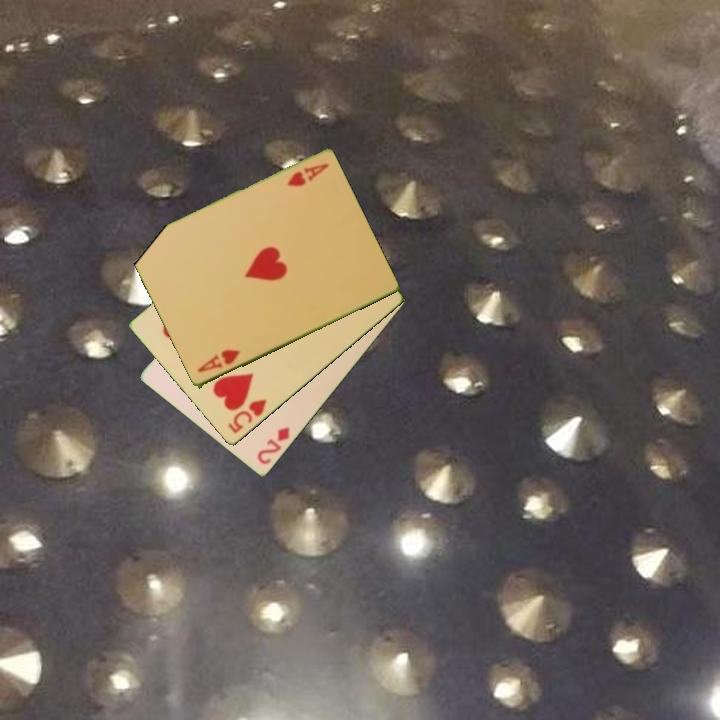2d: (254, 424, 293, 468)
5h: (224, 396, 269, 437)
Ah: (194, 346, 243, 376), (283, 160, 331, 190)
